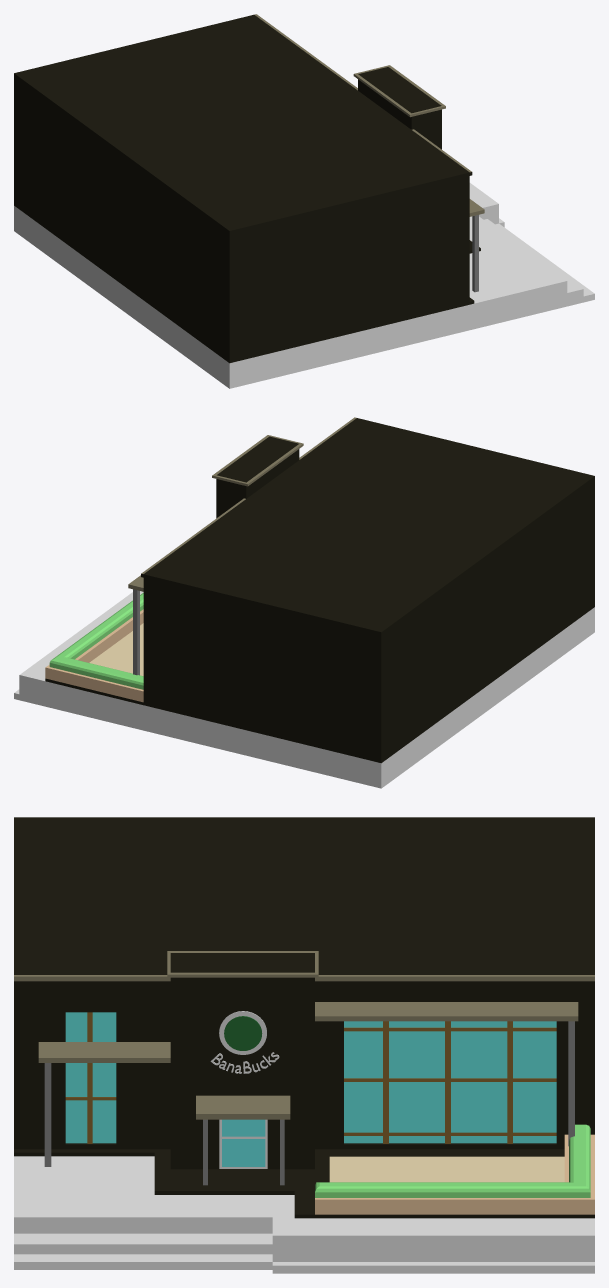
Rendered from STARBUCKS.fbx.
3 views of the same model, one above another, from view 1: azimuth 30°, elevation 25°; view 2: azimuth 150°, elevation 25°; view 3: azimuth 270°, elevation 25° (orthographic). The views are drawn at different scales.
Visible parts, largest first — view 1: Main, Cube.002; view 2: Main, Cube.002, Cube.001; view 3: Main, Cube.002, Cube.001, Door.
Part boxes in pixels (<box>): Main: <box>14,14,484,363</box>; Cube.002: <box>14,183,594,388</box>; Main: <box>45,417,594,763</box>; Cube.002: <box>14,591,594,788</box>; Cube.001: <box>45,593,143,702</box>; Main: <box>14,817,594,1218</box>; Cube.002: <box>14,1156,594,1273</box>; Cube.001: <box>315,1124,594,1214</box>; Door: <box>219,1119,267,1168</box>.
Bounding box in the file's own units: 3033 × 1362 × 3053.
